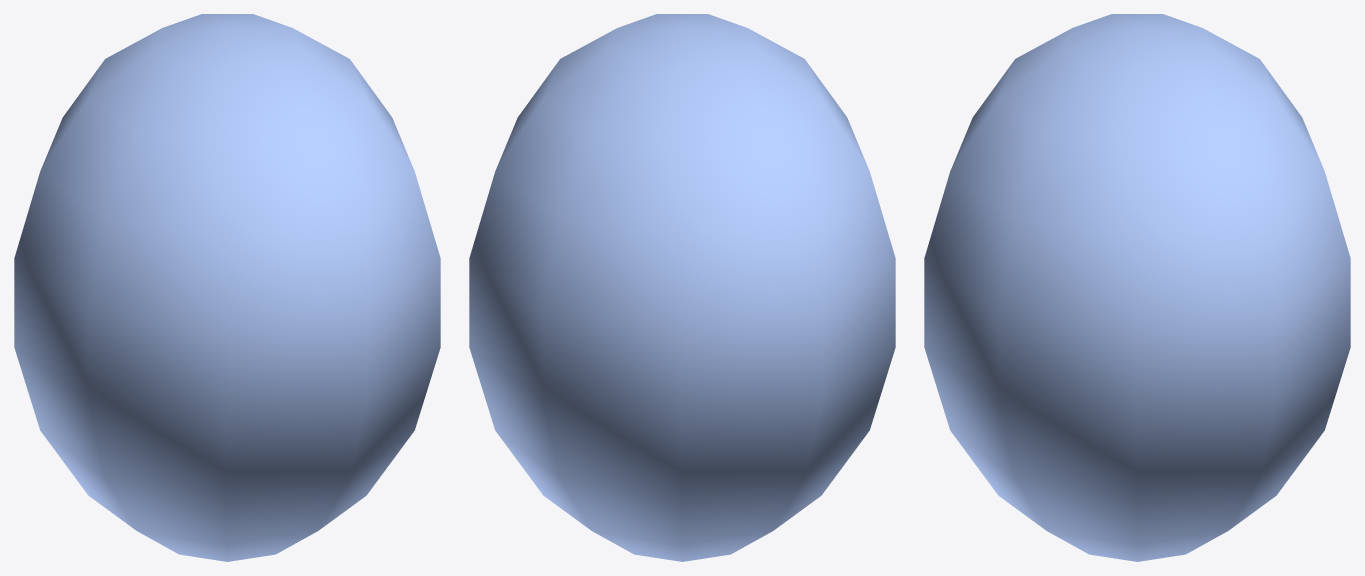
Rendered from crystalkit_stage1.obj.
The picture shows the model from 3 angles, left to right: view 1: azimuth 30°, elevation 25°; view 2: azimuth 150°, elevation 25°; view 3: azimuth 270°, elevation 25°; orthographic projection.
Size of the model in its own units: 1.24 by 1.69 by 1.26.
